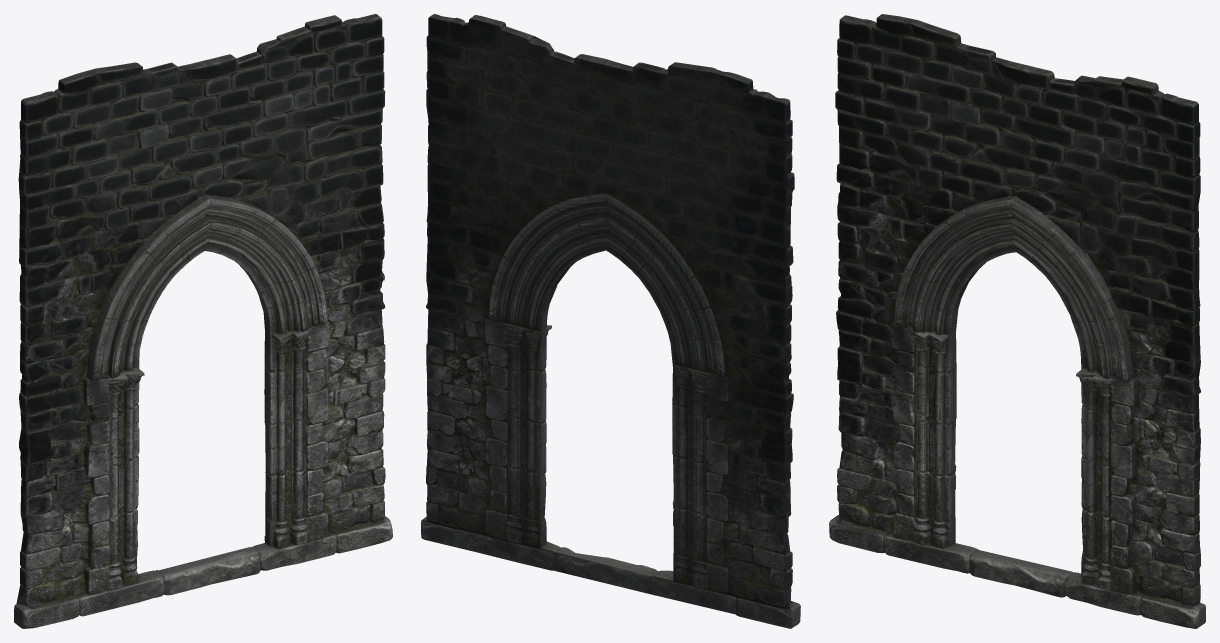
Rendered from wall_door.glb.
3 renders of one model, left to right at view 1: azimuth 30°, elevation 25°; view 2: azimuth 150°, elevation 25°; view 3: azimuth 330°, elevation 25°, orthographic.
Parts seen in each view (by area): view 1: Mesh_0; view 2: Mesh_0; view 3: Mesh_0.
Part boxes in pixels (left/top/right/bottom): Mesh_0: left=14, top=14, right=392, bottom=628; Mesh_0: left=421, top=14, right=800, bottom=628; Mesh_0: left=829, top=14, right=1205, bottom=628.
Bounding box in the file's own units: 1.38 × 1.9 × 0.09.
Materials: 1 (1 with a texture image).
